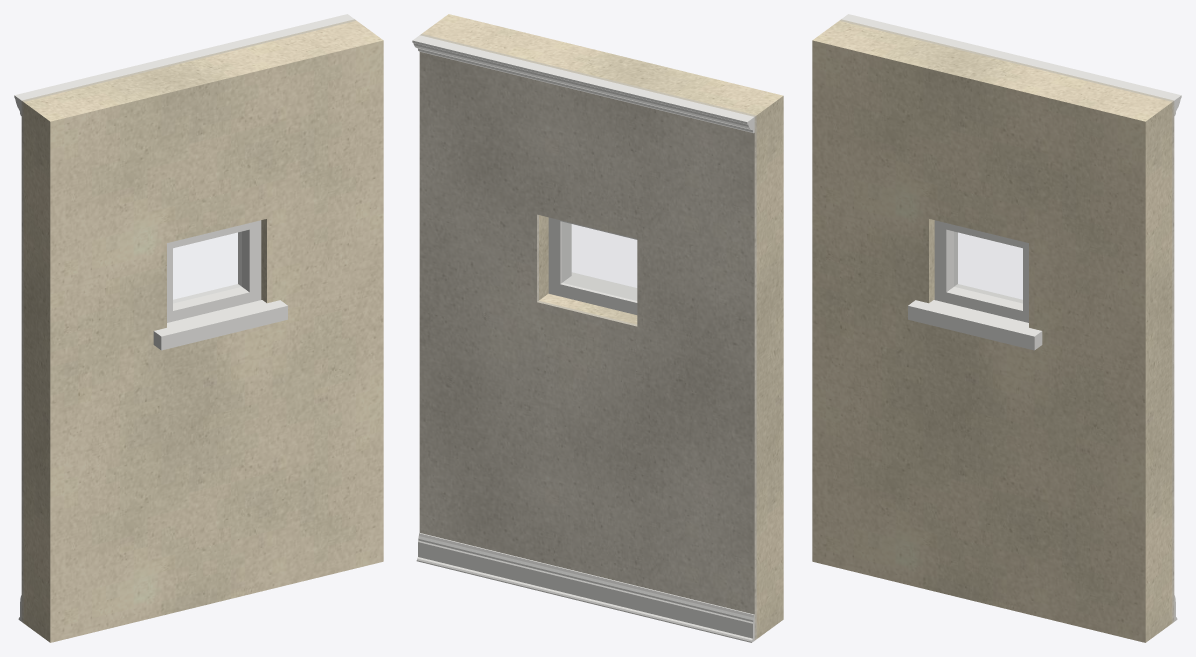
The model's file is wall_up_small.glb.
3 renders of one model, left to right at view 1: azimuth 30°, elevation 25°; view 2: azimuth 150°, elevation 25°; view 3: azimuth 330°, elevation 25°, orthographic.
Parts seen in each view (by area): view 1: wall_up_small_stucco, wall_up_small_frame, wall_up_small_glass, wall_up_small_trim, molduras, wall_up_small_plaster; view 2: wall_up_small_plaster, wall_up_small_stucco, molduras, wall_up_small_glass, wall_up_small_frame; view 3: wall_up_small_stucco, wall_up_small_frame, wall_up_small_glass, wall_up_small_trim, molduras, wall_up_small_plaster.
Part boxes in pixels (<box>): wall_up_small_stucco: <box>23,20,383,642</box>; wall_up_small_frame: <box>167,220,261,322</box>; wall_up_small_glass: <box>173,232,241,302</box>; wall_up_small_trim: <box>153,300,287,350</box>; molduras: <box>14,14,354,621</box>; wall_up_small_plaster: <box>21,19,355,622</box>; wall_up_small_plaster: <box>419,34,756,640</box>; wall_up_small_stucco: <box>422,14,783,638</box>; molduras: <box>412,35,754,642</box>; wall_up_small_glass: <box>562,222,636,300</box>; wall_up_small_frame: <box>548,217,637,314</box>; wall_up_small_stucco: <box>812,20,1172,642</box>; wall_up_small_frame: <box>934,220,1028,322</box>; wall_up_small_glass: <box>954,232,1022,302</box>; wall_up_small_trim: <box>908,300,1042,350</box>; molduras: <box>841,14,1181,621</box>; wall_up_small_plaster: <box>840,19,1174,622</box>.
Bounding box in the file's own units: 2 × 2.99 × 0.455.
5 materials, 2 textured.
